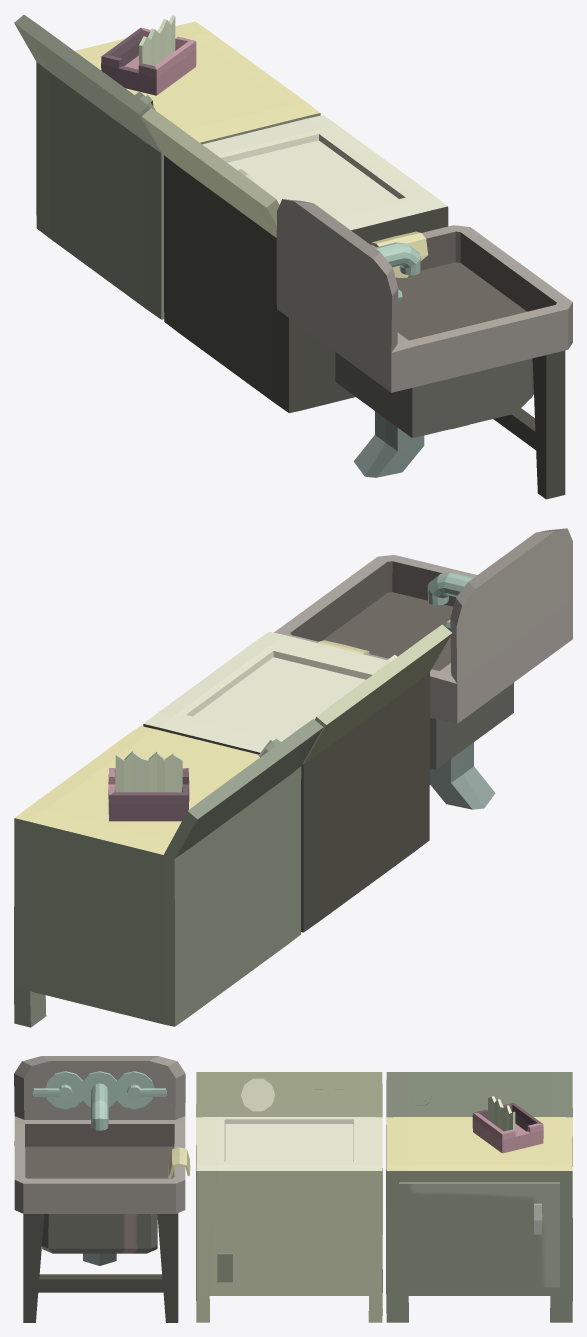
Rendered from washer.obj.
3 views of the same model, one above another, from view 1: azimuth 30°, elevation 25°; view 2: azimuth 150°, elevation 25°; view 3: azimuth 270°, elevation 25° (orthographic). The views are drawn at different scales.
Parts seen in each view (by area): view 1: Interior.001_Interior.004; view 2: Interior.001_Interior.004; view 3: Interior.001_Interior.004.
Part boxes in pixels (bbox=[...]): Interior.001_Interior.004: bbox=[14, 15, 572, 499]; Interior.001_Interior.004: bbox=[14, 528, 572, 1027]; Interior.001_Interior.004: bbox=[14, 1056, 572, 1322].
Size of the model in its own units: 1.14 by 1.52 by 3.82.
Materials: 1 (1 with a texture image).
